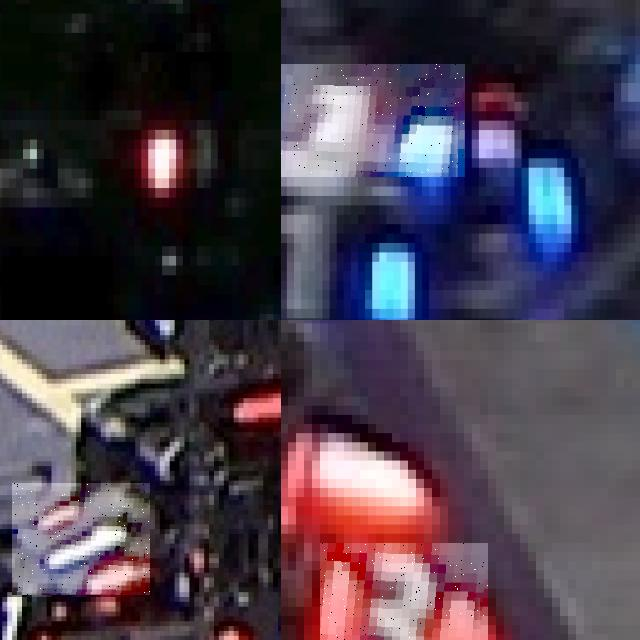B1: (281, 64, 465, 177), (281, 196, 414, 320)
R1: (12, 483, 150, 595), (199, 577, 281, 640), (0, 570, 56, 640)
R3: (320, 543, 488, 640)
